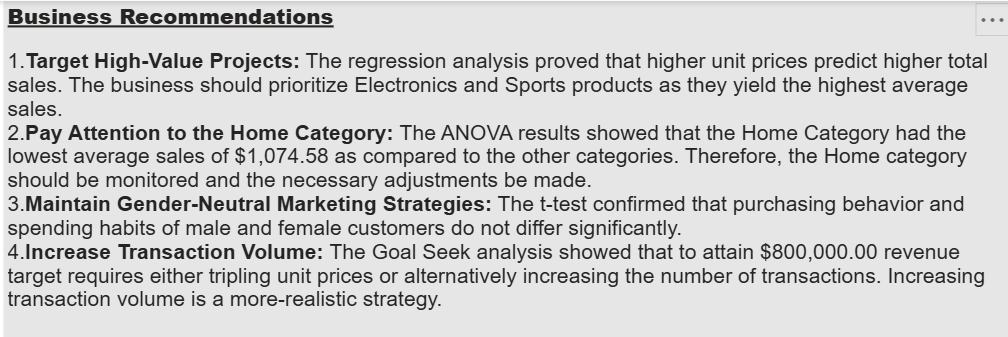

Layout of this report page (visuals, bound fields, positions):
{"tool":"powerbi","page":{"name":"Business Recommendations","canvas":[1280,720],"ordinal":2},"visuals":[{"type":"textbox","title":"Business Recommendations ","box":[9.4,0,1269.9,720],"z":0}]}

Visuals, with their boxes on the page's 1280x720 design canvas (x1, y1, x2, y2). These are canvas units, not pixel positions in the 1008x337 screenshot, which may show the page scaled, cropped or inside an application window:
"Business Recommendations " textbox: 9/0/1279/720
